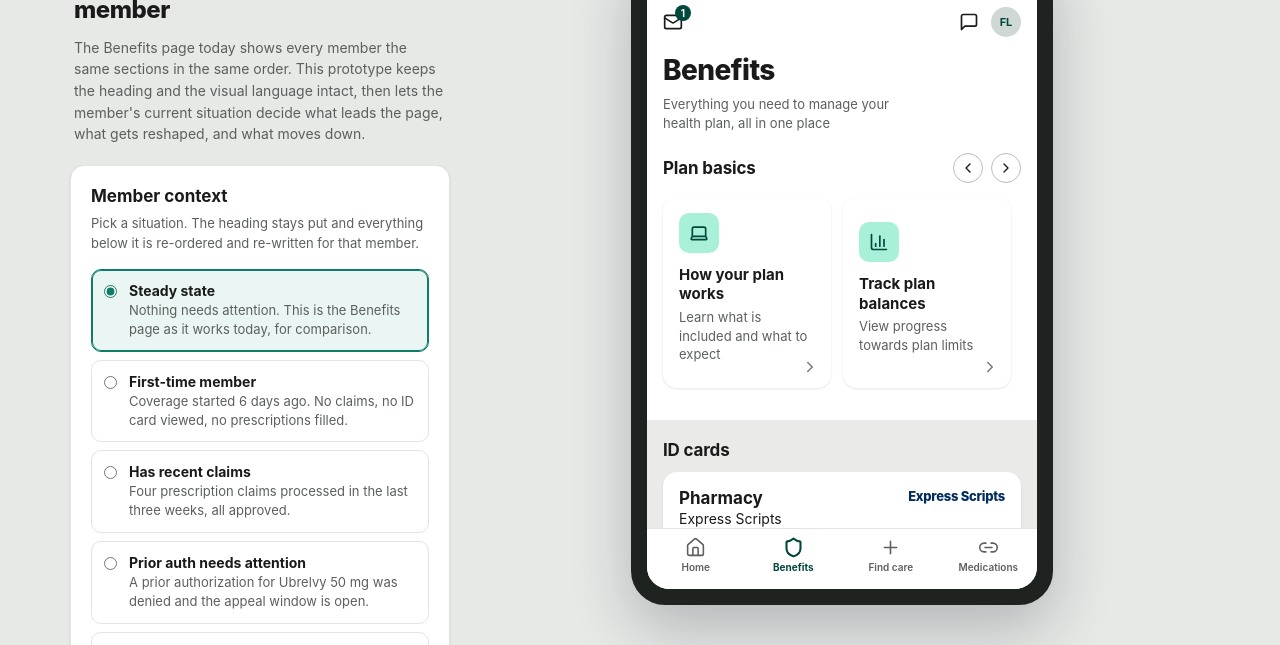
Test: sub-pages › shows an empty activity page for a member with no claims
Click the radio button labelled "First-time member" at (110, 382), box [104,376,117,389]
(page scrolled)
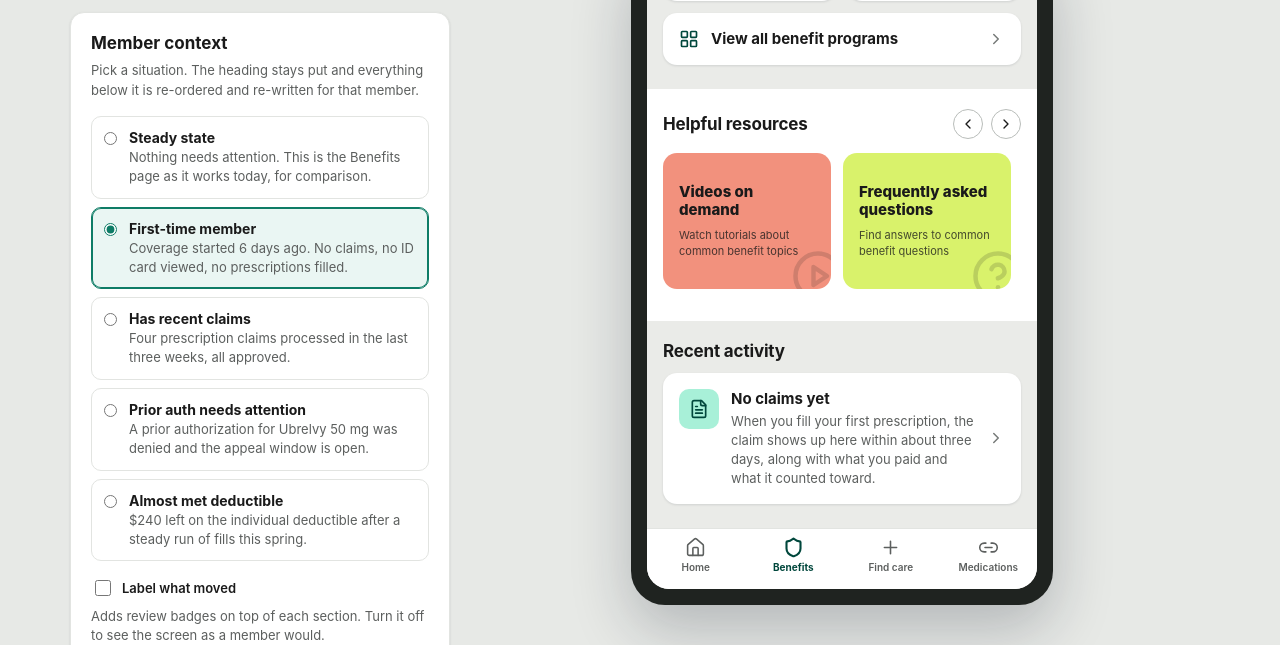
Click the button "No claims yet" at (842, 438), box [663,373,1021,504]
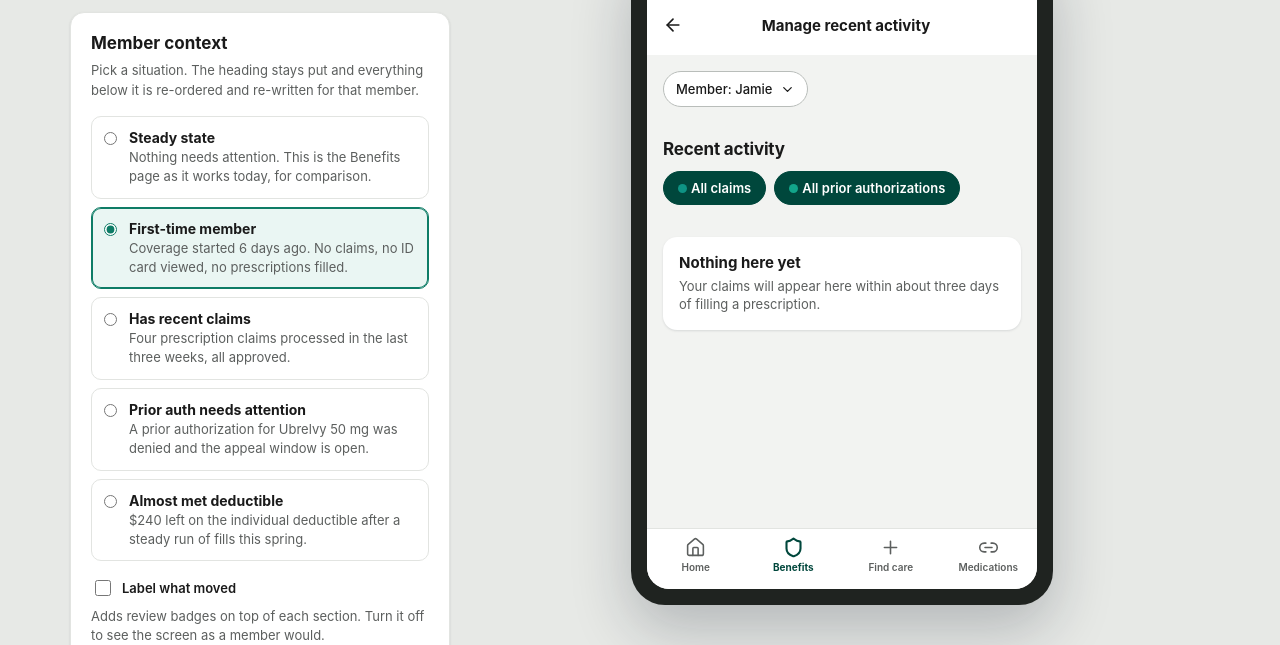
Check: the text "within about three days" is shown, box [679,278,999,312]
Check: the heading "Nothing here yet" is shown, box [679,253,801,272]
